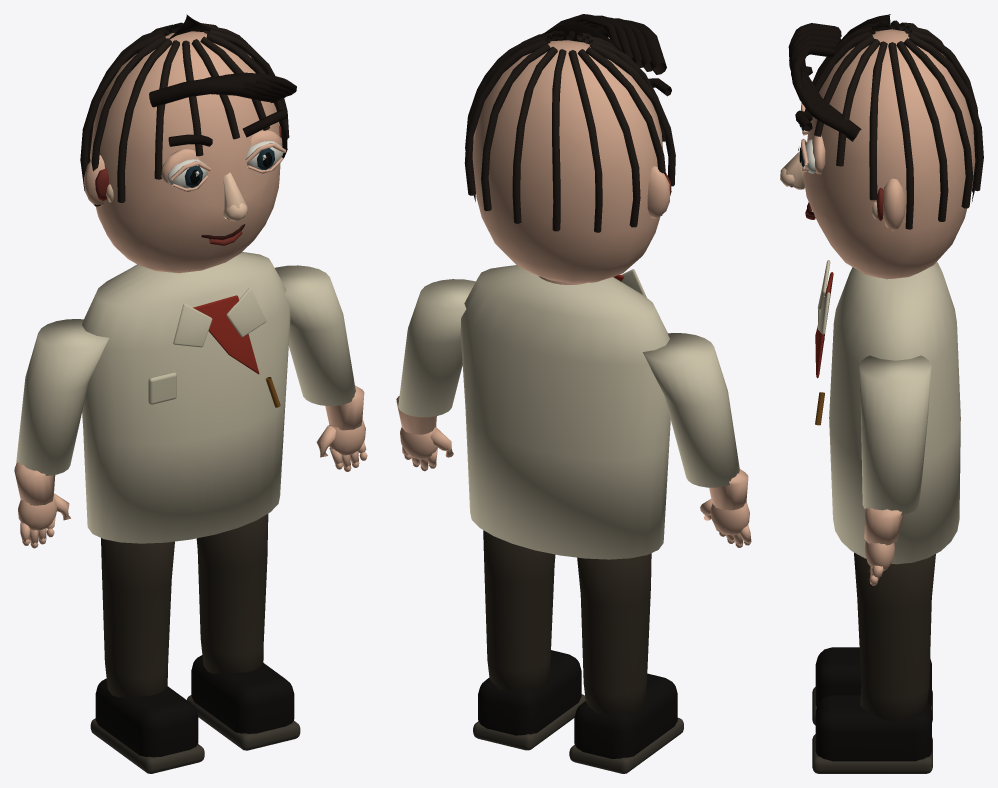
The model's file is receptionist-07.glb.
3 views of the same model, side by side, from view 1: azimuth 30°, elevation 25°; view 2: azimuth 150°, elevation 25°; view 3: azimuth 270°, elevation 25° (orthographic).
Parts seen in each view (by area): view 1: Body, Head, LegL, LegR, ArmL, ArmR; view 2: Body, Head, LegL, LegR, ArmL, ArmR; view 3: Head, Body, LegR, ArmR, LegL.
Part boxes in pixels (x1,y1,x2,y2): Body: [82, 252, 290, 543]; Head: [80, 14, 296, 273]; LegL: [90, 538, 204, 773]; LegR: [187, 514, 300, 750]; ArmL: [14, 319, 109, 548]; ArmR: [275, 265, 367, 471]; Body: [460, 265, 670, 559]; Head: [464, 14, 675, 283]; LegL: [569, 553, 683, 773]; LegR: [473, 530, 585, 750]; ArmL: [642, 333, 751, 547]; ArmR: [396, 279, 475, 471]; Head: [780, 14, 983, 279]; Body: [815, 260, 960, 564]; LegR: [812, 552, 935, 773]; ArmR: [859, 355, 931, 585]; LegL: [812, 647, 932, 725].
Size of the model in its own units: 0.7308 by 1.45 by 0.3695.
